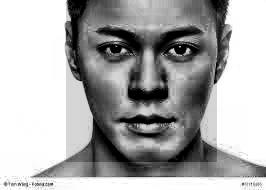happy: (66, 0, 217, 162)
